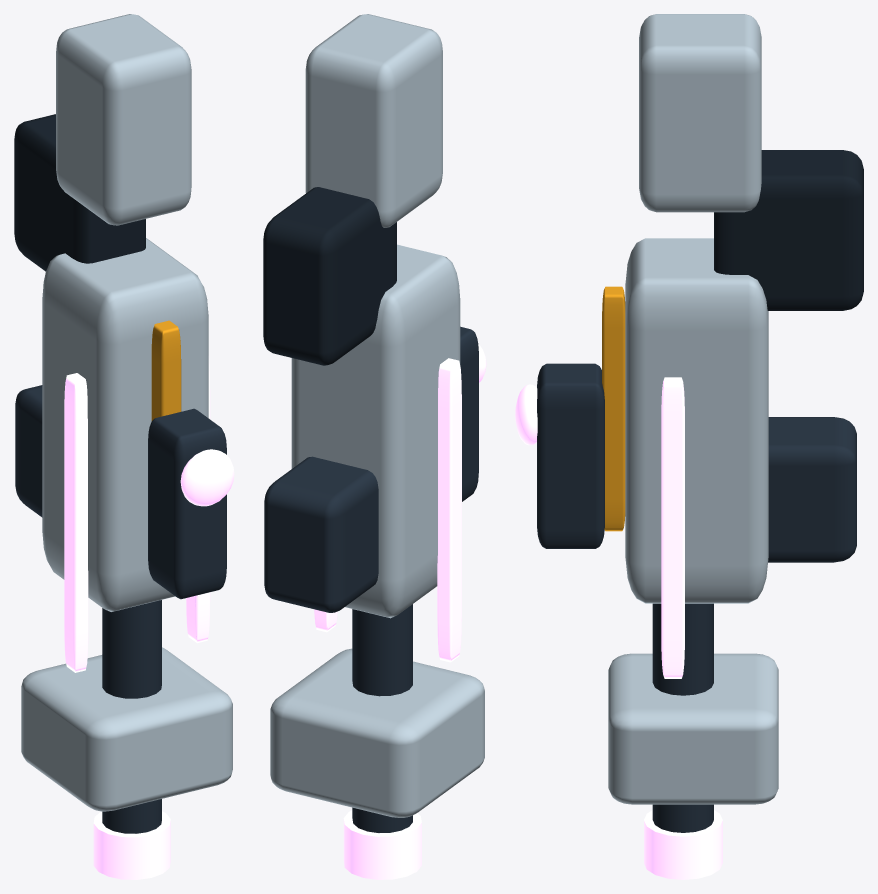
The model's file is rifle-7.glb.
3 views of the same model, side by side, from view 1: azimuth 30°, elevation 25°; view 2: azimuth 150°, elevation 25°; view 3: azimuth 270°, elevation 25° (orthographic).
Bounding box in the file's own units: 0.2762 × 1.49 × 0.5658.
